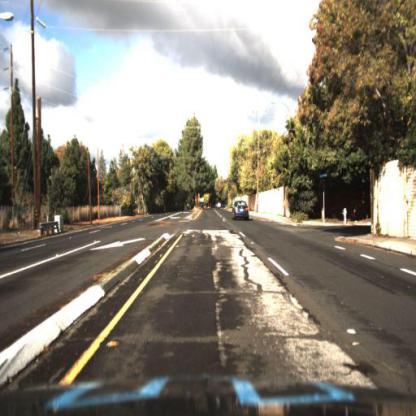car: (233, 201, 251, 223)
